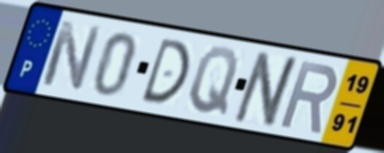0: (91, 29, 141, 98)
D: (138, 36, 192, 106)
N: (230, 49, 305, 131), (38, 18, 104, 94)
Q: (186, 44, 241, 119)
R: (277, 58, 341, 136)
